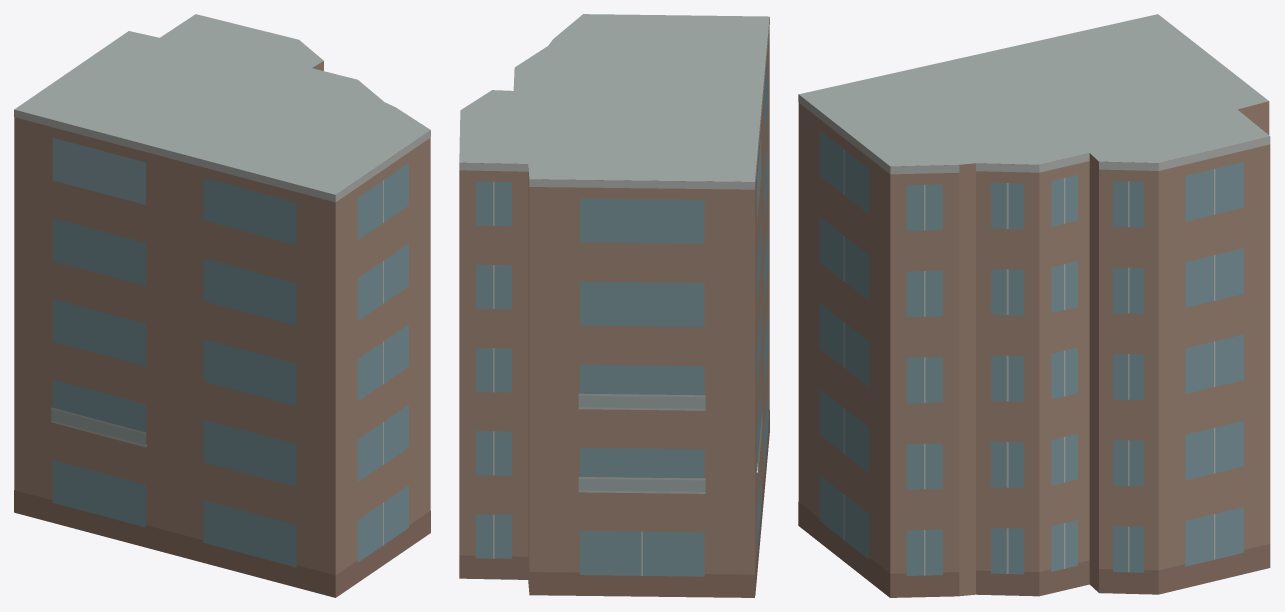
File: survey-upis-32724057.glb
The picture shows the model from 3 angles, left to right: view 1: azimuth 30°, elevation 25°; view 2: azimuth 150°, elevation 25°; view 3: azimuth 270°, elevation 25°; orthographic projection. The views are drawn at different scales.
Visible parts, largest first — view 1: survey-upis-32724057.tmp; view 2: survey-upis-32724057.tmp; view 3: survey-upis-32724057.tmp.
Part boxes in pixels (x1,y1,x2,y2): survey-upis-32724057.tmp: [14, 14, 430, 597]; survey-upis-32724057.tmp: [459, 14, 769, 597]; survey-upis-32724057.tmp: [798, 14, 1270, 597].
Size of the model in its own units: 9.97 by 13.15 by 13.04.
